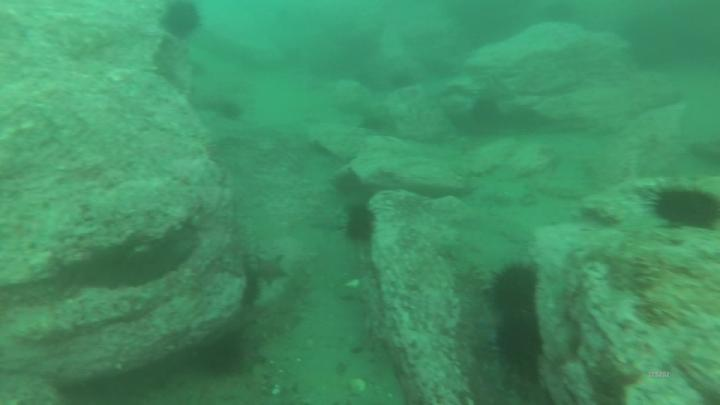echinus: (658, 189, 719, 226), (494, 266, 539, 308), (495, 317, 544, 353), (163, 3, 202, 39), (209, 336, 247, 372), (347, 207, 375, 239), (334, 170, 363, 199), (476, 98, 503, 125)
starfish: (258, 256, 289, 287)
